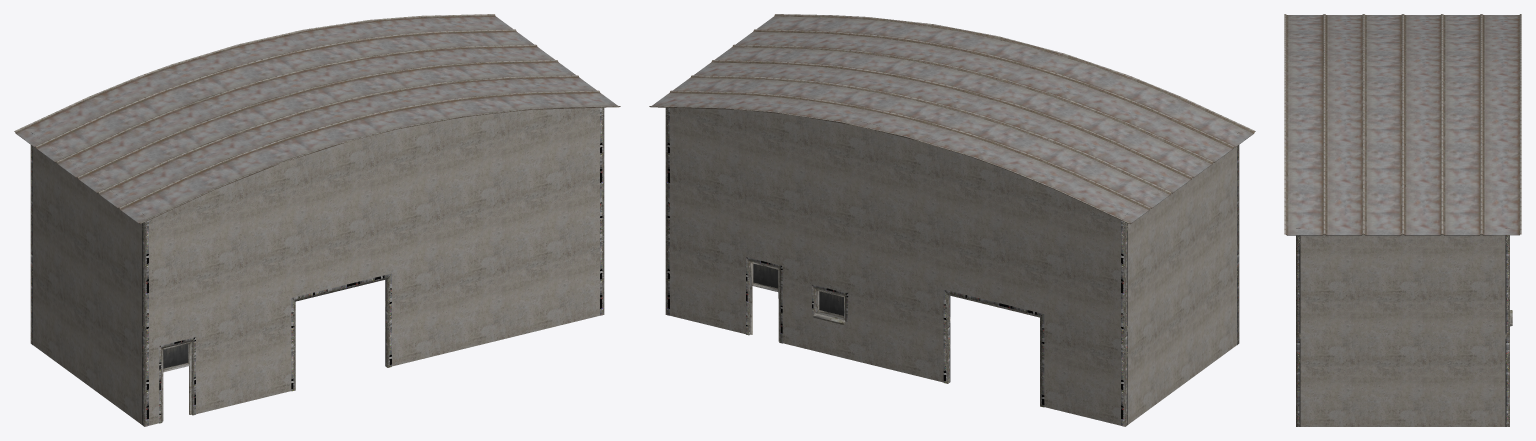
File: outbuilding_2st_21x9.glb
3 views of the same model, side by side, from view 1: azimuth 30°, elevation 25°; view 2: azimuth 150°, elevation 25°; view 3: azimuth 270°, elevation 25° (orthographic). The views are drawn at different scales.
Parts seen in each view (by area): view 1: outbuilding_2st_21x9_LOD0; view 2: outbuilding_2st_21x9_LOD0; view 3: outbuilding_2st_21x9_LOD0.
Part boxes in pixels (bbox=[...]): outbuilding_2st_21x9_LOD0: bbox=[14, 14, 620, 426]; outbuilding_2st_21x9_LOD0: bbox=[649, 14, 1255, 426]; outbuilding_2st_21x9_LOD0: bbox=[1284, 14, 1521, 426].
Bounding box in the file's own units: 21.94 × 10.62 × 10.
5 materials, 5 textured.
